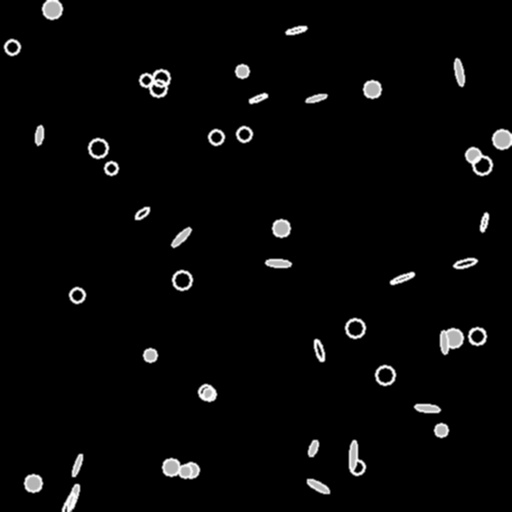pseudomonas: (170, 226, 192, 248), (306, 477, 330, 495), (66, 484, 80, 510), (312, 338, 326, 362), (390, 271, 414, 285), (60, 491, 76, 512), (348, 440, 358, 470), (71, 453, 83, 477), (453, 257, 477, 269), (454, 59, 464, 85), (414, 403, 440, 413), (134, 205, 150, 221), (248, 92, 268, 104), (305, 93, 327, 103), (285, 25, 307, 35), (307, 439, 319, 457), (265, 259, 291, 267), (440, 330, 448, 354), (479, 213, 489, 231), (35, 125, 43, 145)
synechocystis: (346, 319, 364, 337), (444, 329, 462, 347), (493, 130, 511, 148), (89, 139, 107, 157), (173, 271, 191, 289), (376, 366, 394, 384), (473, 156, 491, 174), (43, 0, 61, 18), (153, 70, 169, 86), (364, 81, 380, 97), (469, 328, 485, 344), (273, 220, 289, 236), (150, 80, 166, 96), (25, 475, 41, 491), (163, 459, 179, 475), (184, 463, 198, 477), (466, 148, 480, 162), (199, 385, 213, 399), (237, 127, 251, 141), (70, 288, 84, 302), (209, 130, 223, 144), (5, 40, 19, 54), (350, 460, 364, 474), (140, 74, 152, 86), (203, 388, 215, 400), (144, 349, 156, 361), (105, 162, 117, 174), (435, 424, 447, 436), (236, 65, 248, 77), (179, 465, 191, 477)
